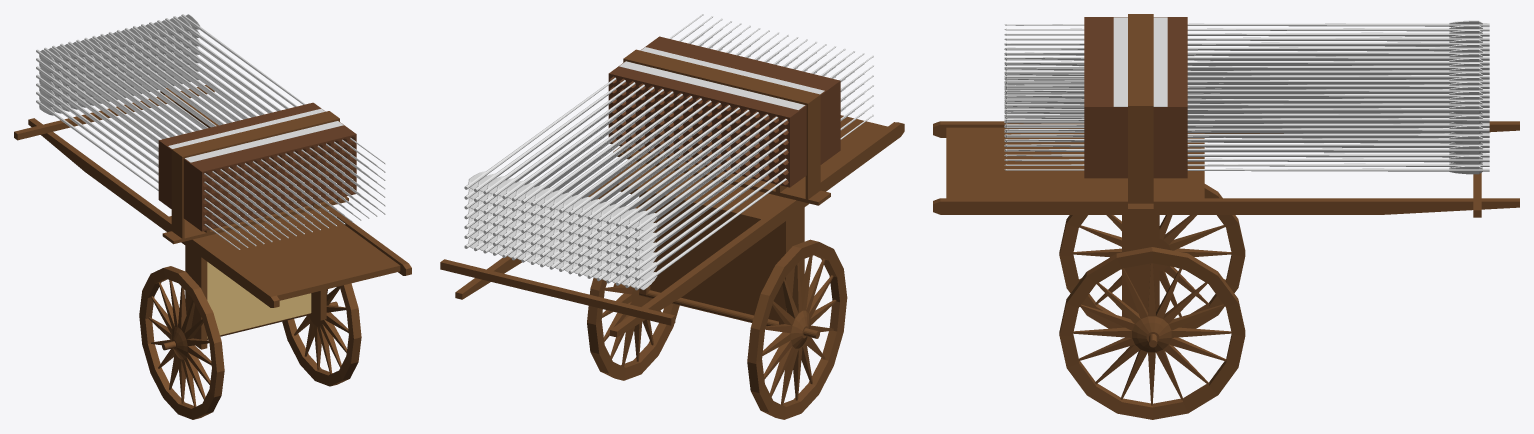
The picture shows the model from 3 angles, left to right: view 1: azimuth 30°, elevation 25°; view 2: azimuth 150°, elevation 25°; view 3: azimuth 270°, elevation 25°; orthographic projection. The views are drawn at different scales.
Visible parts, largest first — view 1: color2, bow, tong, 통; view 2: color2, bow, tong, 통; view 3: bow, color2, tong, 통.
Boxes of the visible parts, x1=… form: color2: x1=14, y1=85, x2=411, y2=419; bow: x1=36, y1=14, x2=385, y2=249; tong: x1=158, y1=102, x2=356, y2=231; 통: x1=168, y1=108, x2=343, y2=162; color2: x1=440, y1=49, x2=904, y2=419; bow: x1=464, y1=14, x2=873, y2=290; tong: x1=608, y1=36, x2=840, y2=187; 통: x1=619, y1=47, x2=824, y2=110; bow: x1=1004, y1=20, x2=1489, y2=174; color2: x1=933, y1=14, x2=1519, y2=419; tong: x1=1084, y1=17, x2=1187, y2=178; 통: x1=1113, y1=17, x2=1167, y2=106.
Size of the model in its own units: 66.19 by 85.43 by 143.
